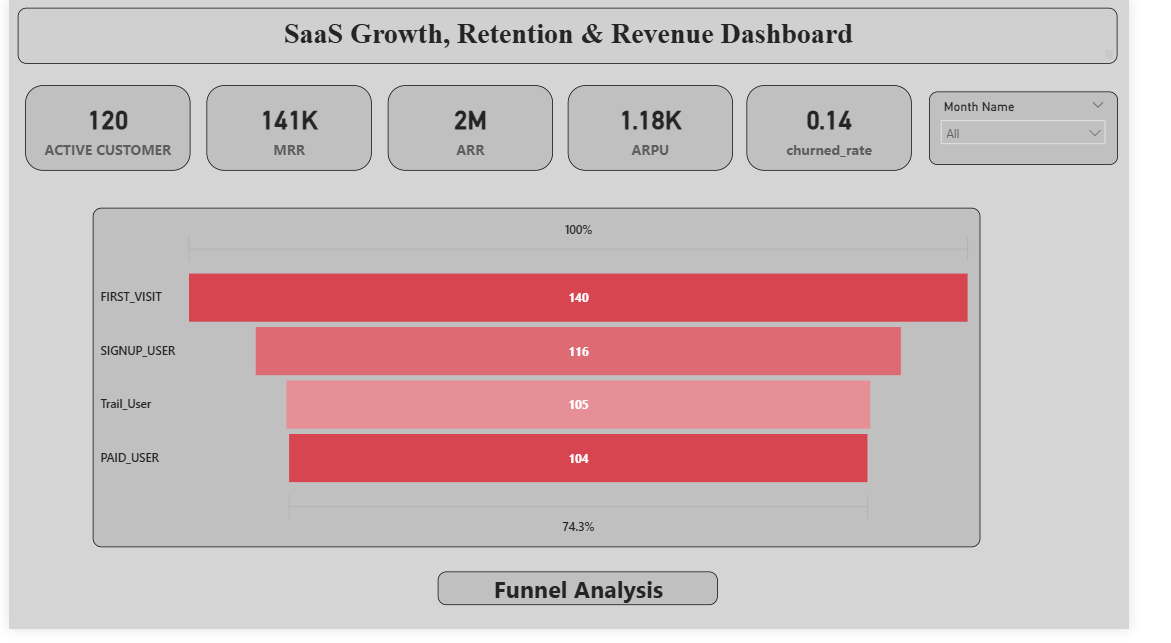

The dashboard page shown, as its layout file describes it:
{"tool":"powerbi","page":{"name":"Page 2","canvas":[1280,720],"ordinal":1},"visuals":[{"type":"card","fields":{"Values":["public customer_subscriptions.ACTIVE CUSTOMER"]},"box":[19.1,99.3,188.8,97.5],"z":0},{"type":"card","fields":{"Values":["public customer_subscriptions.MRR"]},"box":[225.4,99.3,188.8,97.5],"z":1000},{"type":"card","fields":{"Values":["public customer_subscriptions.ARR"]},"box":[432.9,99.3,188.8,97.5],"z":2000},{"type":"card","fields":{"Values":["public customer_subscriptions.ARPU"]},"box":[637.9,99.3,188.8,97.5],"z":3000},{"type":"card","fields":{"Values":["public customer_subscriptions.churned_rate"]},"box":[842.9,99.3,188.8,97.5],"z":4000},{"type":"textbox","title":"SaaS Growth, Retention & Revenue Dashboard","box":[10,10,1257.1,64.3],"z":5000},{"type":"funnel","fields":{"Y":["public customer_subscriptions.FIRST_VISIT","public customer_subscriptions.SIGNUP_USER","public customer_subscriptions.Trail_User","public customer_subscriptions.PAID_USER"]},"box":[96,238,1014,388],"z":6000},{"type":"slicer","fields":{"Values":["Calendar.Month Name"]},"box":[1051.4,105.7,215.7,84.3],"z":7000},{"type":"textbox","title":"Funnel Analysis","box":[490,654.3,320,38.6],"z":8000}]}

Visuals, with their boxes in screenshot pixels (x1, y1, x2, y2), scaled from the page's 1280x720 canvas onto the 1171x643 screenshot:
card - public customer_subscriptions.ACTIVE CUSTOMER: region(17, 89, 190, 176)
card - public customer_subscriptions.MRR: region(206, 89, 379, 176)
card - public customer_subscriptions.ARR: region(396, 89, 569, 176)
card - public customer_subscriptions.ARPU: region(584, 89, 756, 176)
card - public customer_subscriptions.churned_rate: region(771, 89, 944, 176)
"SaaS Growth, Retention & Revenue Dashboard" textbox: region(9, 9, 1159, 66)
funnel - public customer_subscriptions.FIRST_VISIT x public customer_subscriptions.SIGNUP_USER: region(88, 213, 1015, 559)
slicer - Calendar.Month Name: region(962, 94, 1159, 170)
"Funnel Analysis" textbox: region(448, 584, 741, 619)
